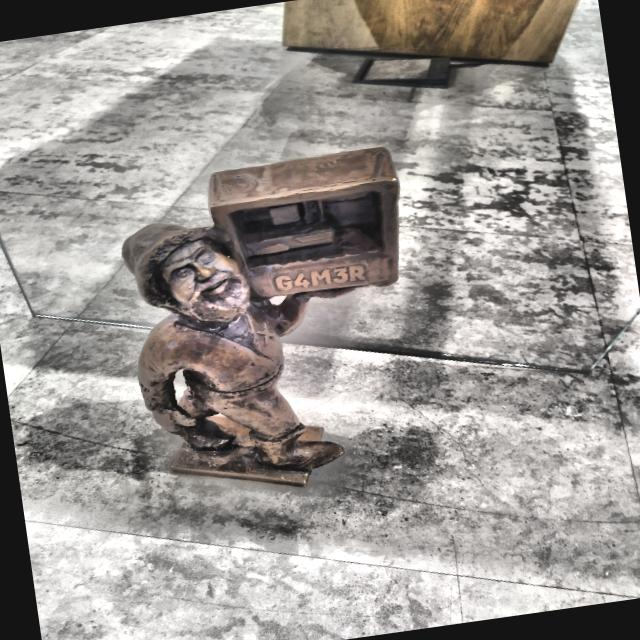GigaHercjusz: (122, 147, 399, 487)
